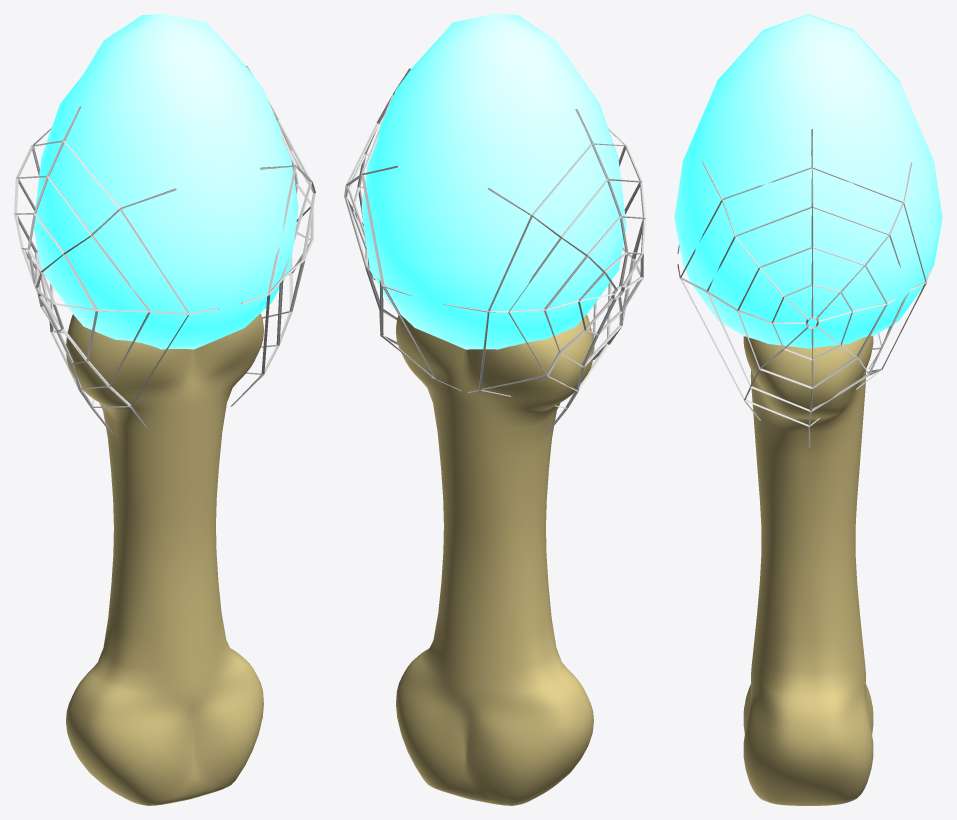
Rendered from Knockback_Beacon.fbx.
3 views of the same model, side by side, from view 1: azimuth 30°, elevation 25°; view 2: azimuth 150°, elevation 25°; view 3: azimuth 270°, elevation 25° (orthographic).
Visible parts, largest first — view 1: Roundcube, Cylinder, Circle.006; view 2: Roundcube, Cylinder, Circle.006; view 3: Roundcube, Cylinder, Circle.006.
Boxes of the visible parts, left/top/right/bottom form: Roundcube: left=33, top=14, right=298, bottom=349; Cylinder: left=66, top=313, right=263, bottom=805; Circle.006: left=14, top=66, right=315, bottom=434; Roundcube: left=361, top=14, right=626, bottom=349; Cylinder: left=396, top=314, right=593, bottom=805; Circle.006: left=344, top=68, right=645, bottom=435; Roundcube: left=674, top=14, right=942, bottom=348; Cylinder: left=743, top=336, right=873, bottom=805; Circle.006: left=677, top=129, right=932, bottom=447.
Bounding box in the file's own units: 55.69 × 151 × 47.42.
